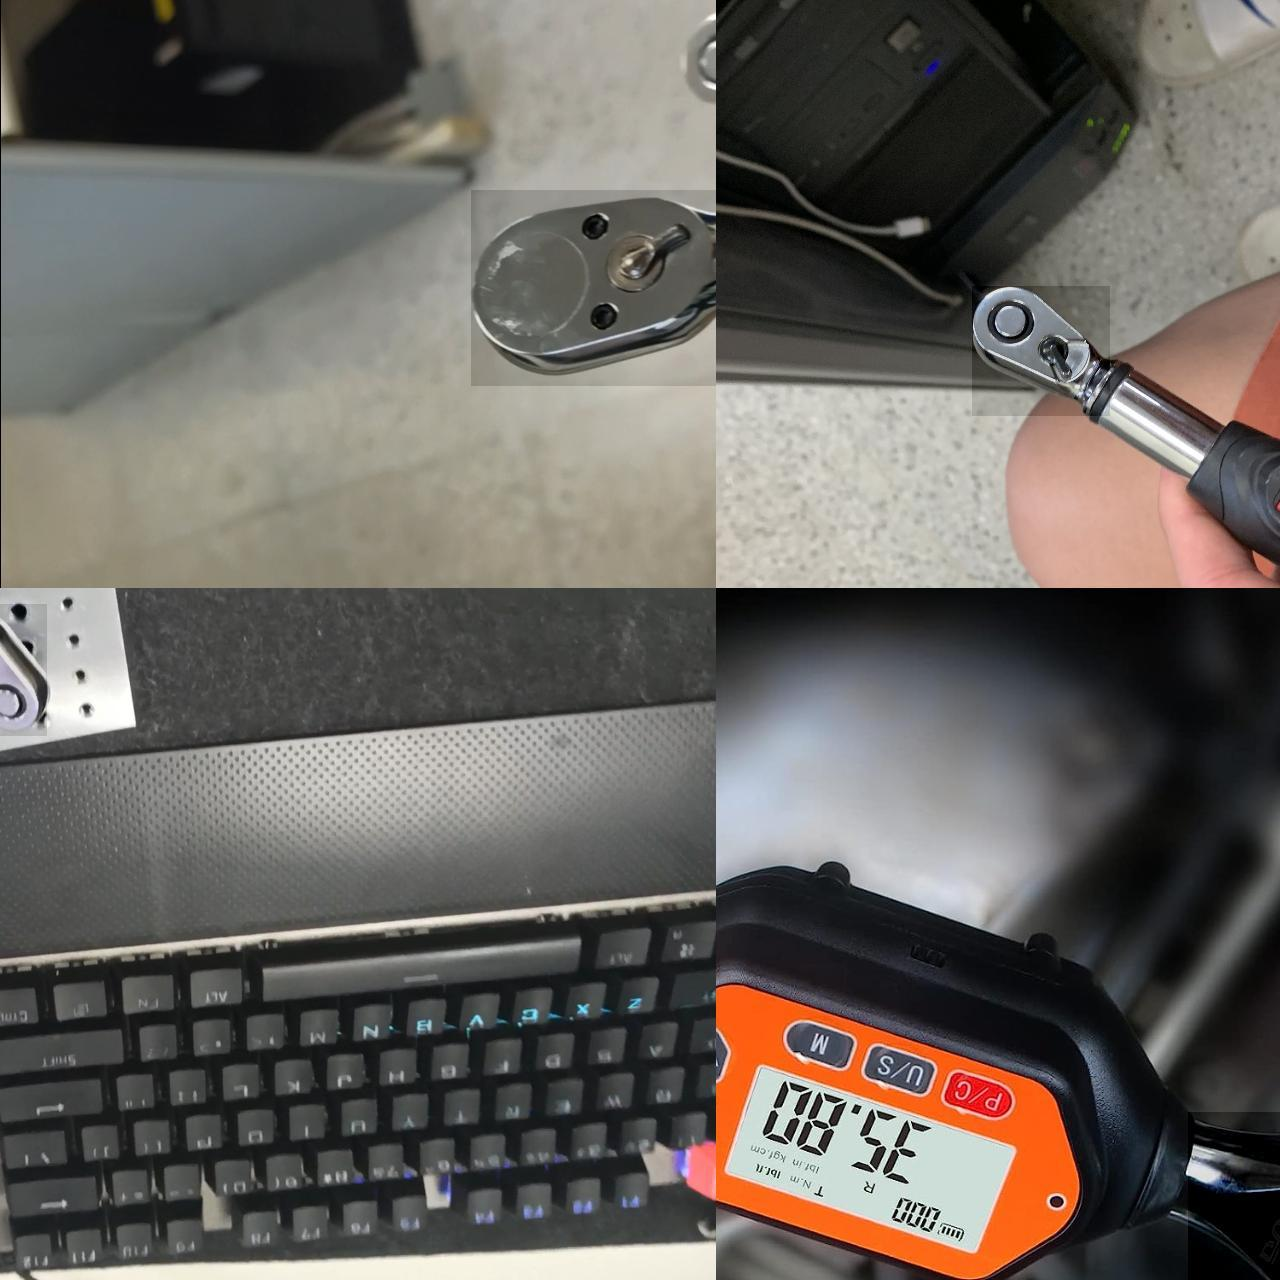Tool: (470, 189, 716, 385), (971, 285, 1109, 415), (0, 603, 46, 735)
